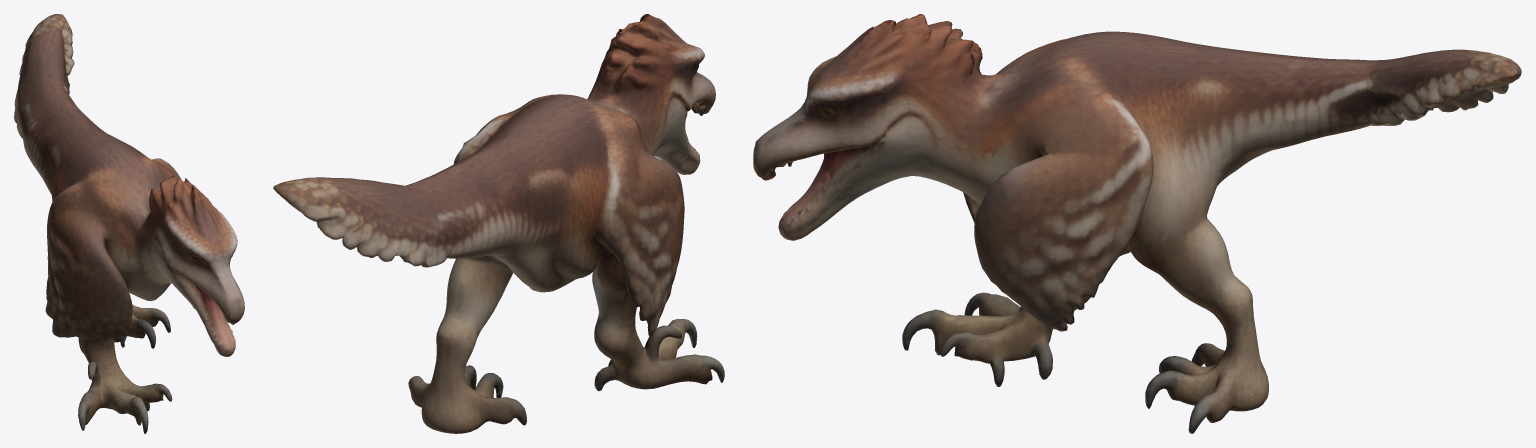
3 renders of one model, left to right at view 1: azimuth 30°, elevation 25°; view 2: azimuth 150°, elevation 25°; view 3: azimuth 270°, elevation 25°, orthographic. The views are drawn at different scales.
Visible parts, largest first — view 1: world; view 2: world; view 3: world.
Boxes of the visible parts, x1=… form: world: x1=14, y1=14, x2=244, y2=433; world: x1=273, y1=14, x2=724, y2=433; world: x1=753, y1=14, x2=1521, y2=433.
Size of the model in its own units: 2.42 by 3.55 by 6.5.
Materials: 1 (1 with a texture image).
